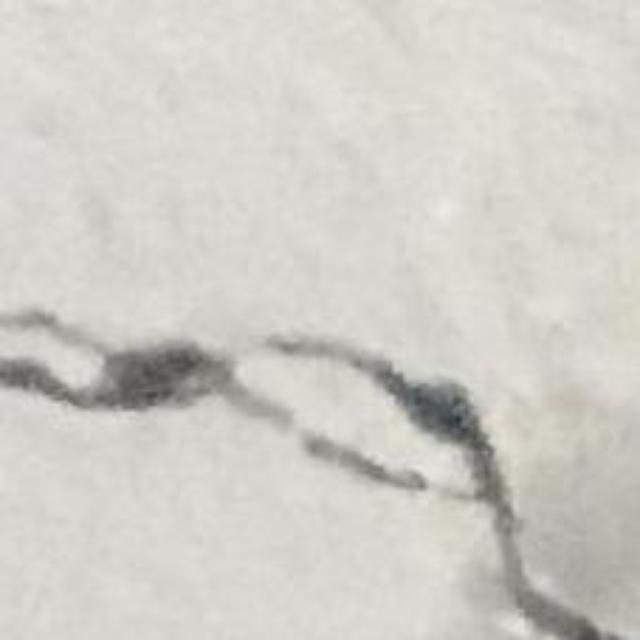crack: (0, 313, 428, 490)
